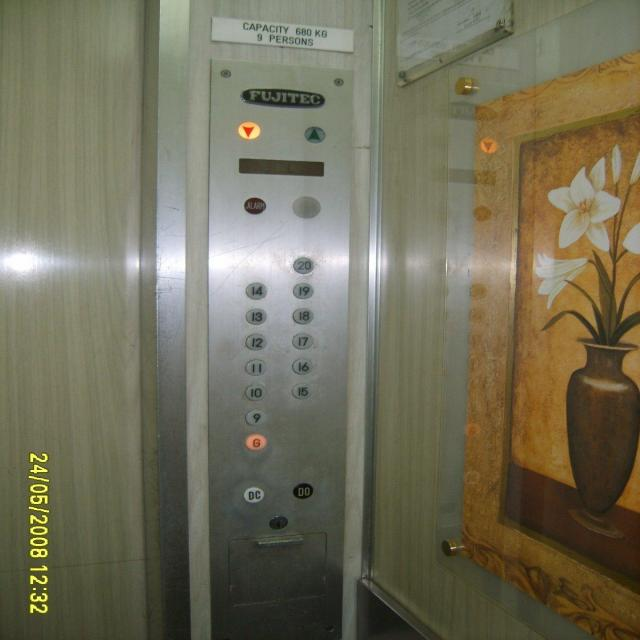10: (244, 383, 268, 401)
11: (243, 358, 268, 376)
12: (244, 333, 268, 351)
13: (244, 307, 268, 325)
14: (244, 282, 268, 300)
15: (290, 382, 315, 400)
16: (290, 358, 315, 376)
17: (291, 332, 315, 349)
18: (291, 307, 315, 325)
19: (291, 282, 316, 300)
20: (292, 256, 316, 274)
9: (243, 409, 268, 427)
D0: (292, 482, 313, 498)
DC: (243, 486, 265, 504)
G: (244, 433, 269, 451)
down: (238, 120, 260, 140)
empty: (290, 194, 322, 220)
keyhole: (267, 514, 288, 531)
text_alarm bell: (242, 197, 267, 214)
up: (302, 125, 326, 144)
